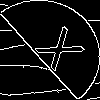X: (25, 25, 86, 80)
